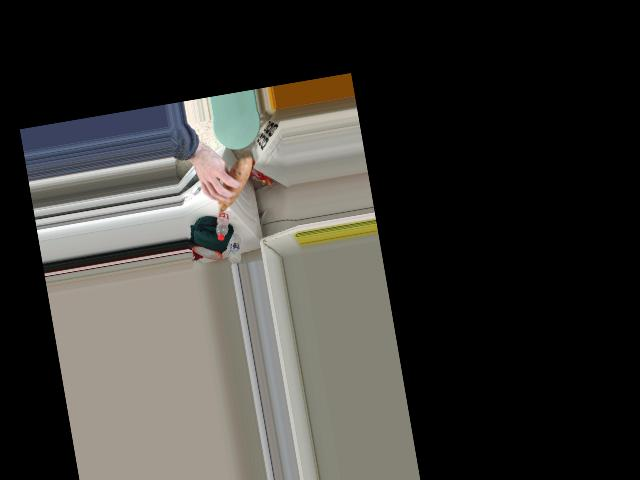sweet_potato: (201, 162, 257, 212)
